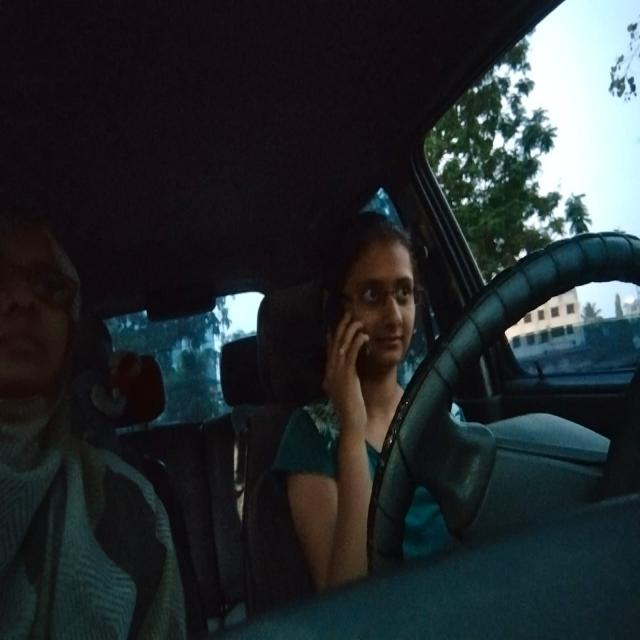mobile: (324, 293, 375, 387)
person: (321, 212, 421, 405), (0, 225, 88, 442)
